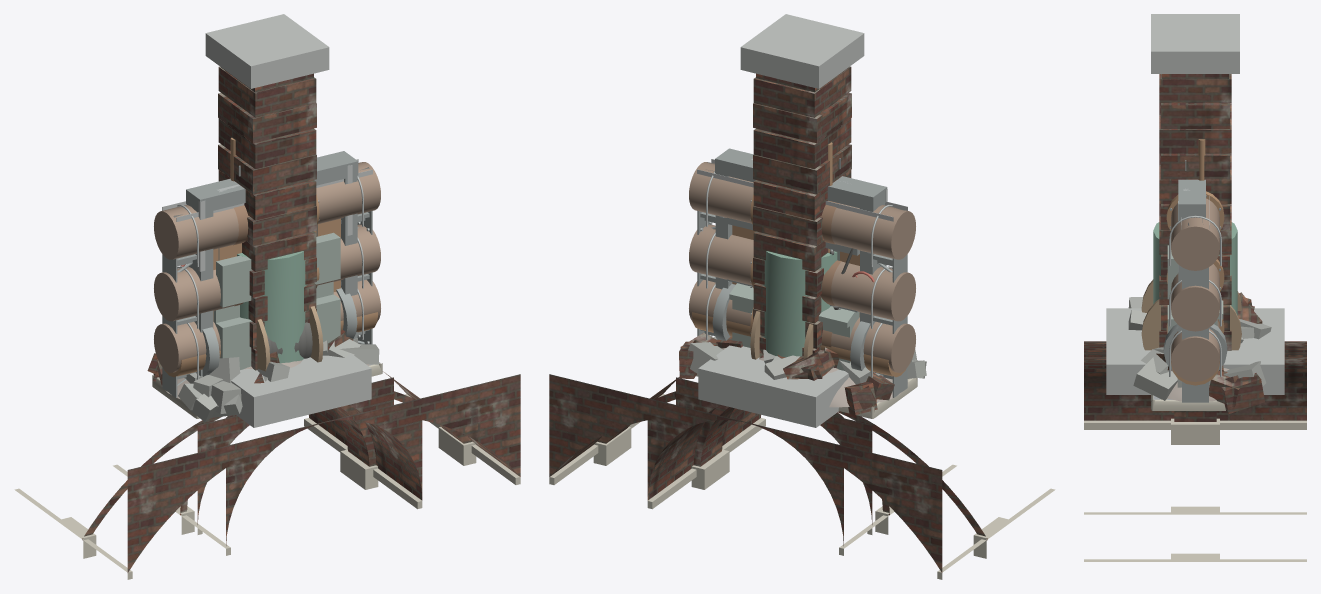
Rendered from catacombs_props.glb.
3 renders of one model, left to right at view 1: azimuth 30°, elevation 25°; view 2: azimuth 150°, elevation 25°; view 3: azimuth 270°, elevation 25°, orthographic.
Visible parts, largest first — view 1: p_cat_column_brick, p_cat_vault_4x, p_cat_pump, p_cat_vault_2, p_cat_pipe_high, p_cat_column_square, p_cat_panel, p_cat_pipe_mid, p_cat_gate, p_cat_rubble, p_cat_pipe_low, p_cat_vault_1 (+4 smaller); view 2: p_cat_column_brick, p_cat_vault_4x, p_cat_pump, p_cat_vault_2, p_cat_pipe_mid, p_cat_pipe_high, p_cat_column_square, p_cat_rubble, p_cat_gate, p_cat_pipe_low, p_cat_vault_1, p_cat_column_round (+4 smaller); view 3: p_cat_column_brick, p_cat_vault_2, p_cat_pump, p_cat_column_square, p_cat_rubble, p_cat_pipe_high, p_cat_pipe_low, p_cat_pipe_mid, p_cat_column_round, p_cat_vault_4x, p_cat_drum, p_cat_vault_1 (+5 smaller).
Part boxes in pixels (<box>): p_cat_column_brick: <box>218,66,316,370</box>; p_cat_vault_4x: <box>14,371,520,579</box>; p_cat_pump: <box>202,251,371,427</box>; p_cat_vault_2: <box>113,405,422,555</box>; p_cat_pipe_high: <box>154,162,380,282</box>; p_cat_column_square: <box>205,14,329,88</box>; p_cat_panel: <box>213,232,340,369</box>; p_cat_pipe_mid: <box>154,224,380,333</box>; p_cat_gate: <box>181,151,358,376</box>; p_cat_rubble: <box>147,330,379,421</box>; p_cat_pipe_low: <box>154,279,380,397</box>; p_cat_vault_1: <box>197,377,393,534</box>; p_cat_column_brick: <box>753,66,851,355</box>; p_cat_vault_4x: <box>549,374,1055,579</box>; p_cat_pump: <box>698,251,849,427</box>; p_cat_vault_2: <box>647,405,956,555</box>; p_cat_pipe_mid: <box>689,224,915,333</box>; p_cat_pipe_high: <box>689,162,915,282</box>; p_cat_column_square: <box>740,14,864,88</box>; p_cat_rubble: <box>679,332,926,414</box>; p_cat_gate: <box>715,148,887,372</box>; p_cat_pipe_low: <box>689,279,915,397</box>; p_cat_vault_1: <box>676,377,872,534</box>; p_cat_column_round: <box>740,15,864,88</box>; p_cat_column_brick: <box>1159,74,1231,350</box>; p_cat_vault_2: <box>1084,357,1306,514</box>; p_cat_pump: <box>1106,222,1284,394</box>; p_cat_column_square: <box>1151,14,1239,73</box>; p_cat_rubble: <box>1128,292,1271,413</box>; p_cat_pipe_high: <box>1166,191,1224,289</box>; p_cat_pipe_low: <box>1166,319,1224,402</box>; p_cat_pipe_mid: <box>1166,259,1224,339</box>; p_cat_column_round: <box>1151,14,1239,73</box>; p_cat_vault_4x: <box>1084,341,1306,561</box>; p_cat_drum: <box>1141,279,1241,350</box>; p_cat_vault_1: <box>1139,395,1251,429</box>.
Bounding box in the file's own units: 4 × 4.49 × 2.
Materials: 50 (1 with a texture image).
